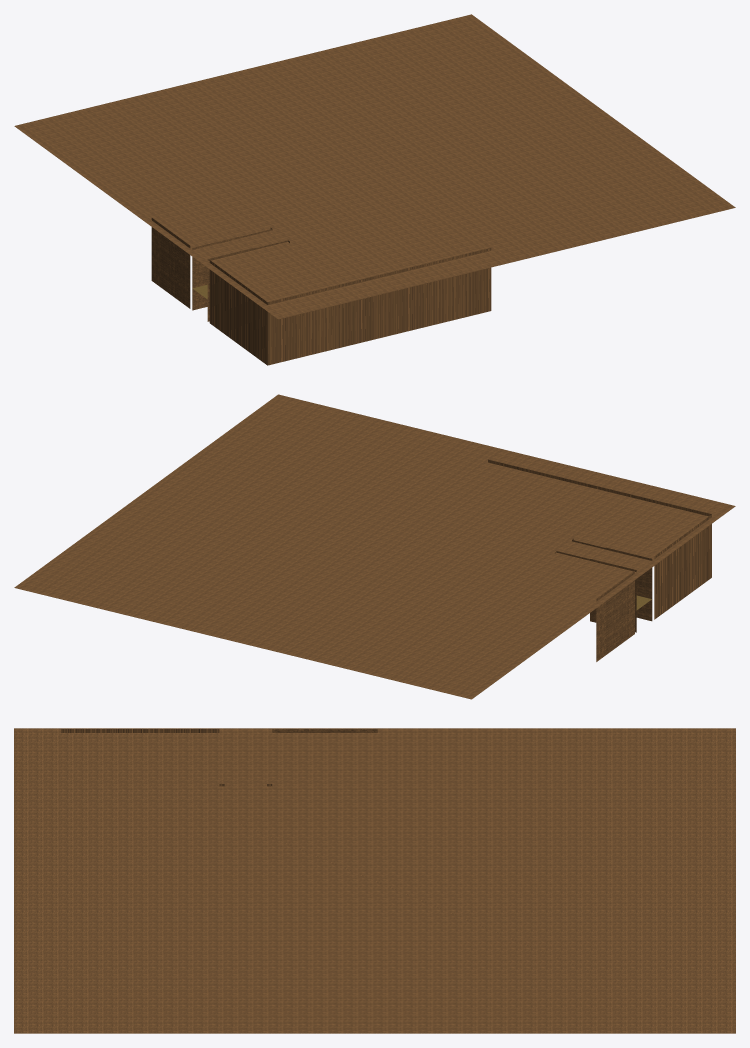
3 renders of one model, top to bottom at view 1: azimuth 30°, elevation 25°; view 2: azimuth 150°, elevation 25°; view 3: azimuth 270°, elevation 25°, orthographic. The views are drawn at different scales.
Visible parts, largest first — view 1: Plane, map; view 2: Plane, map; view 3: Plane, map.
Boxes of the visible parts, x1,y1,x2,y2 form: Plane: [14, 14, 735, 319]; map: [151, 218, 491, 365]; Plane: [14, 394, 735, 699]; map: [488, 459, 711, 661]; Plane: [14, 728, 735, 1033]; map: [61, 729, 377, 786].
Bounding box in the file's own units: 102 × 13.52 × 102.
Materials: 2 (2 with a texture image).
